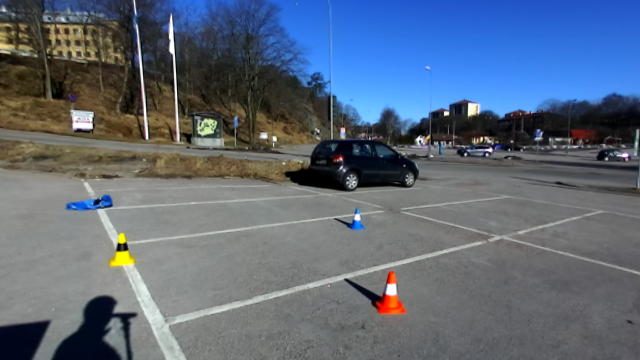blue: (348, 207, 364, 230)
orange: (373, 271, 405, 315)
yellow: (108, 232, 137, 267)
